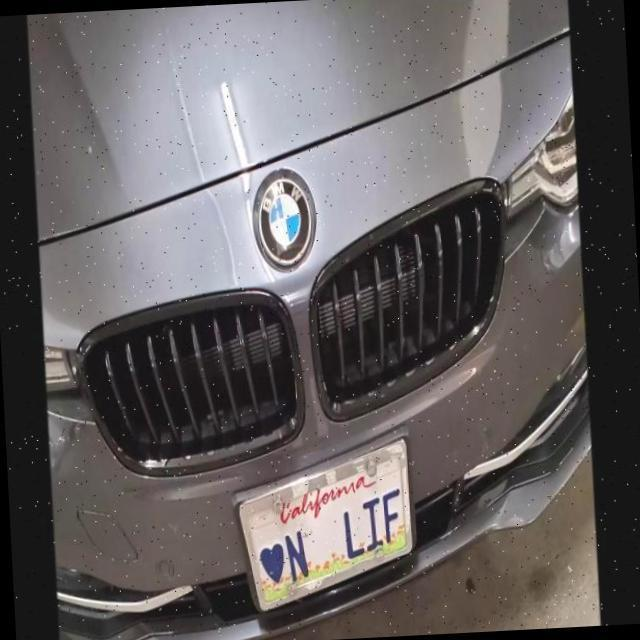License Plate: (240, 461, 428, 604)
